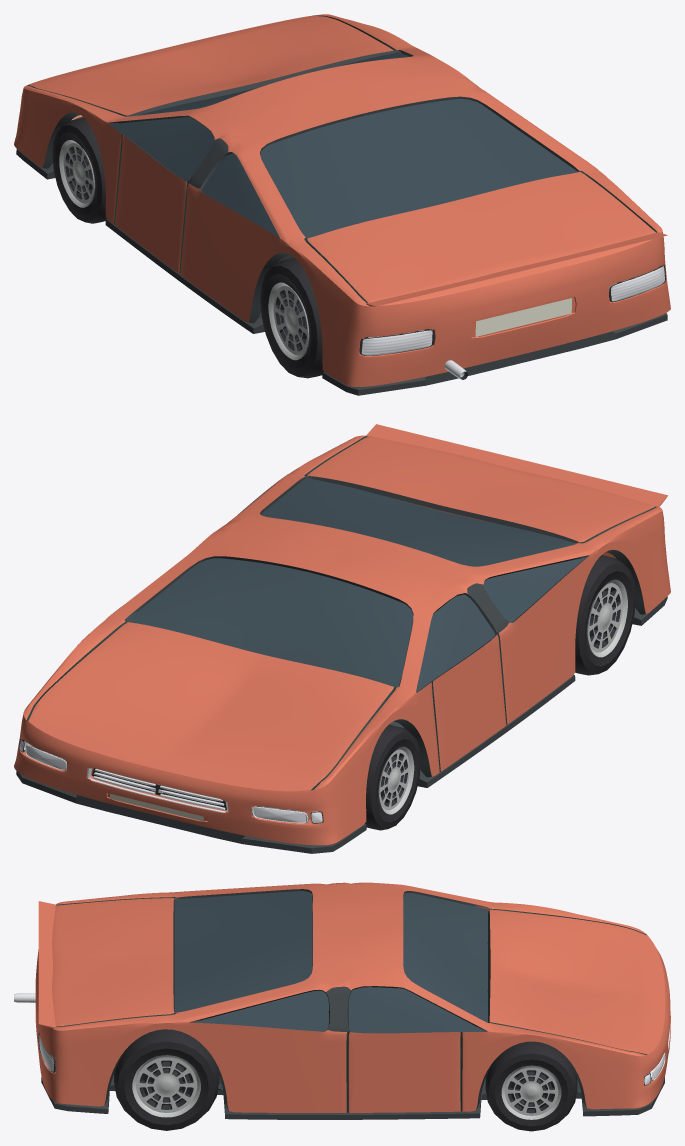
The model's file is forge_closed_supercar_lod1.fbx.
3 renders of one model, top to bottom at view 1: azimuth 30°, elevation 25°; view 2: azimuth 150°, elevation 25°; view 3: azimuth 270°, elevation 25°, orthographic. The views are drawn at different scales.
Parts seen in each view (by area): view 1: Body, Wheel_RL_Mesh, Wheel_FL_Mesh; view 2: Body, Wheel_RL_Mesh, Wheel_FL_Mesh; view 3: Body, Wheel_RR_Mesh, Wheel_FR_Mesh.
Boxes of the visible parts, <box> form: Body: <box>14,14,670,395</box>; Wheel_RL_Mesh: <box>260,257,324,378</box>; Wheel_FL_Mesh: <box>52,118,116,223</box>; Body: <box>14,424,670,853</box>; Wheel_RL_Mesh: <box>575,555,635,675</box>; Wheel_FL_Mesh: <box>365,724,420,830</box>; Body: <box>14,882,670,1119</box>; Wheel_RR_Mesh: <box>114,1029,219,1130</box>; Wheel_FR_Mesh: <box>485,1041,577,1131</box>.
Size of the model in its own units: 192 by 92.27 by 386.
